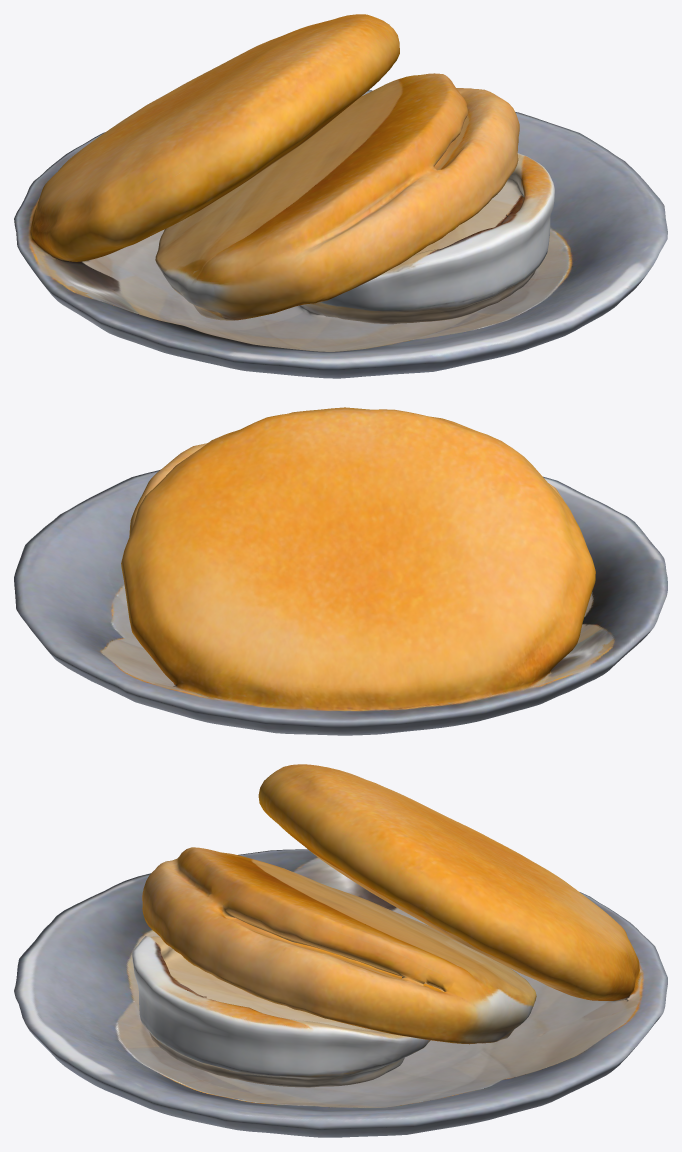
The model's file is Empanadas.glb.
3 views of the same model, one above another, from view 1: azimuth 30°, elevation 25°; view 2: azimuth 150°, elevation 25°; view 3: azimuth 270°, elevation 25° (orthographic).
Bounding box in the file's own units: 1.99 × 0.7884 × 1.99.
Materials: 1 (1 with a texture image).
